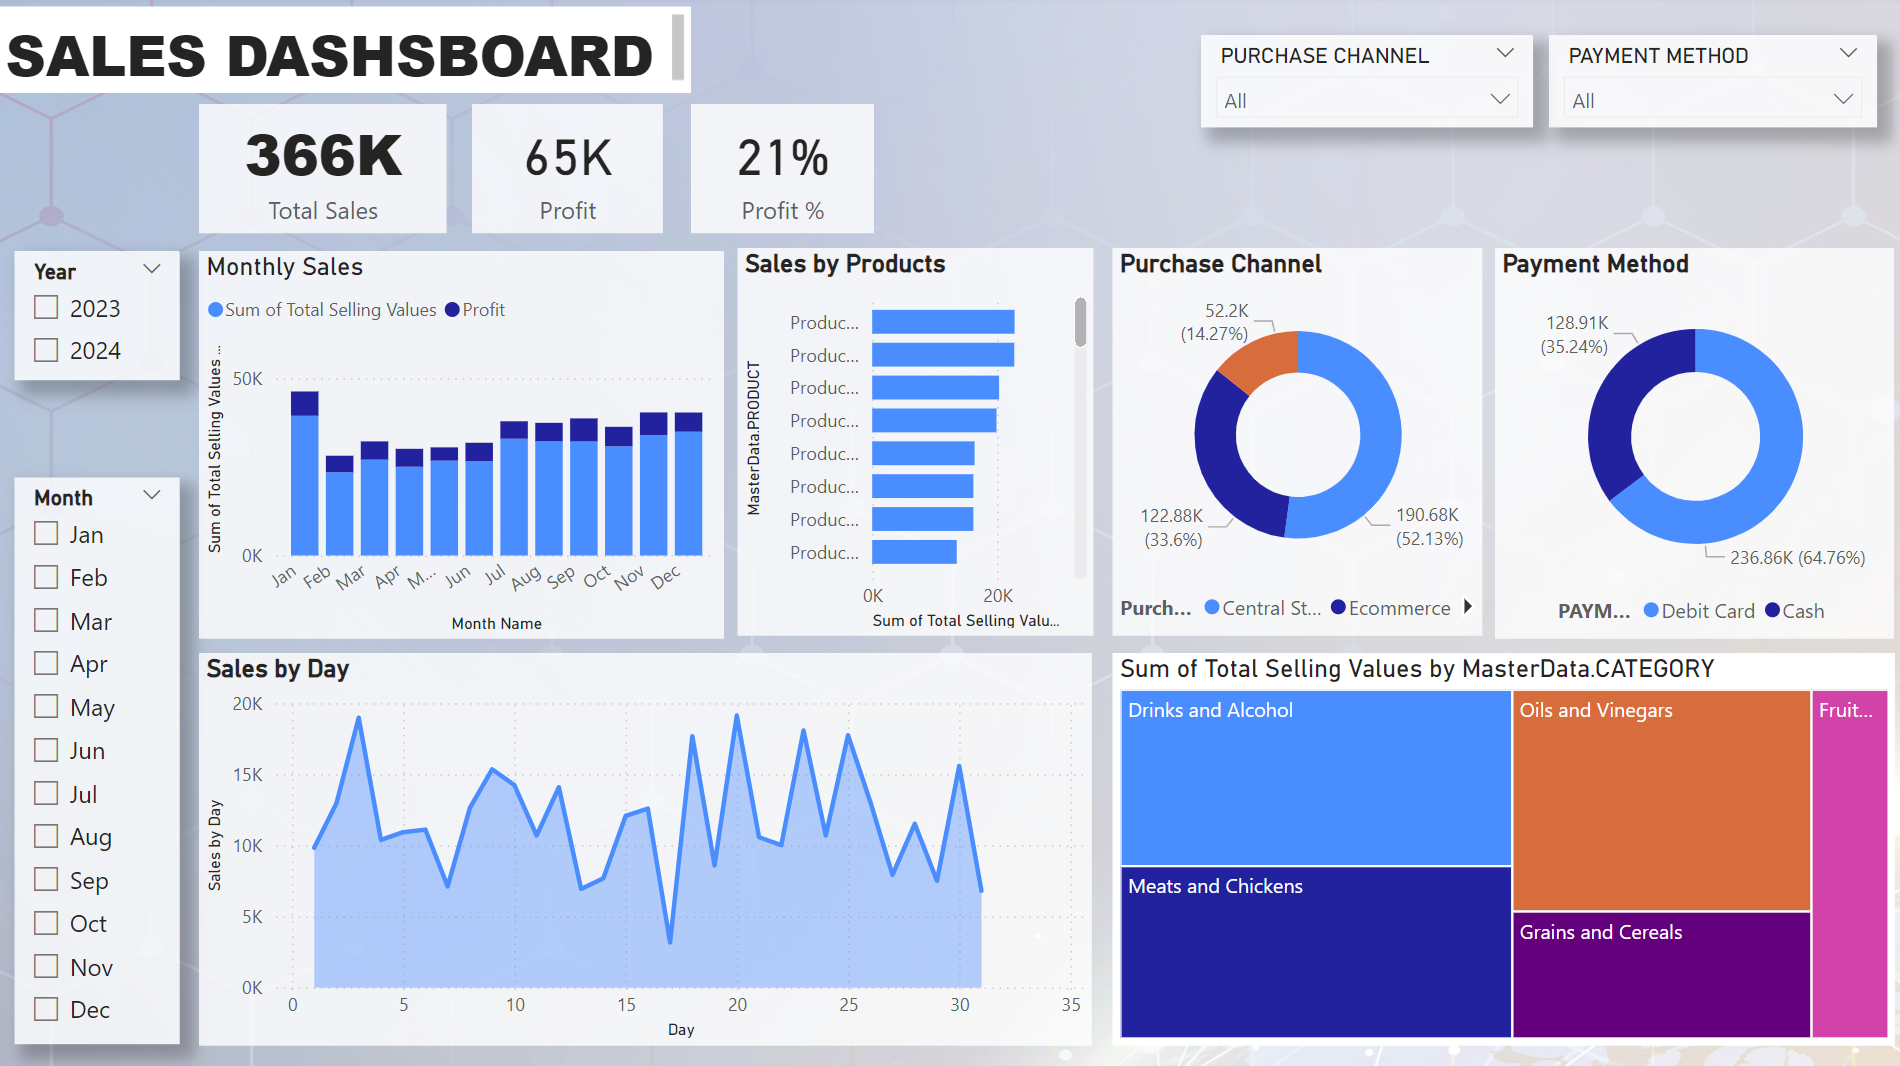

What the dashboard file says about the page in this screenshot:
{"tool":"powerbi","page":{"name":"Sales Dashboard","canvas":[1280,720],"ordinal":0},"visuals":[{"type":"slicer","fields":{"Values":["InputData.Year"]},"box":[10.6,171.1,110.9,86.6],"z":0},{"type":"slicer","fields":{"Values":["InputData.PURCHASE CHANNEL"]},"box":[807.1,26.4,222.9,62.3],"z":1000},{"type":"slicer","fields":{"Values":["InputData.PAYMENT METHOD"]},"box":[1039.5,26.4,219.7,62.3],"z":2000},{"type":"slicer","title":"Month","fields":{"Values":["InputData.Month Name"]},"box":[10.6,323.3,110.9,380.3],"z":3000},{"type":"card","fields":{"Values":["Sum(InputData.Total Selling Values)"]},"box":[135.2,72.9,165.9,86.6],"z":4000},{"type":"card","fields":{"Values":["InputData.Profit"]},"box":[318,72.9,127.8,86.6],"z":5000},{"type":"card","fields":{"Values":["InputData.Profit %"]},"box":[464.8,72.9,122.5,86.6],"z":6000},{"type":"columnChart","title":"Monthly Sales","fields":{"Category":["InputData.Month Name"],"Y":["Sum(InputData.Total Selling Values)","InputData.Profit"]},"box":[135.2,171.1,351.8,259.9],"z":11000},{"type":"clusteredBarChart","title":"Sales by Products","fields":{"Y":["Sum(InputData.Total Selling Values)"],"Category":["InputData.MasterData.PRODUCT"]},"box":[495.5,169,238.7,259.9],"z":12000},{"type":"areaChart","title":"Sales by Day","fields":{"Y":["Sum(InputData.Total Selling Values)"],"Category":["InputData.Day"]},"box":[135.2,440.5,599,263],"z":13000},{"type":"donutChart","title":"Purchase Channel","fields":{"Y":["Sum(InputData.Total Selling Values)"],"Category":["InputData.PURCHASE CHANNEL"]},"box":[746.9,169,248.3,259.9],"z":14000},{"type":"donutChart","title":"Payment Method","fields":{"Y":["Sum(InputData.Total Selling Values)"],"Category":["InputData.PAYMENT METHOD"]},"box":[1003.6,169,268.3,262],"z":15000},{"type":"treemap","fields":{"Group":["InputData.MasterData.CATEGORY"],"Values":["Sum(InputData.Total Selling Values)"]},"box":[746.9,440.5,525,263],"z":16000},{"type":"textbox","box":[0,7.4,464.8,58.1],"z":17000}]}

Visuals, with their boxes in screenshot pixels (x1, y1, x2, y2), scaled from the page's 1280x720 canvas onto the 1900x1066 screenshot:
slicer - InputData.Year: left=16, top=253, right=180, bottom=382
slicer - InputData.PURCHASE CHANNEL: left=1198, top=39, right=1529, bottom=131
slicer - InputData.PAYMENT METHOD: left=1543, top=39, right=1869, bottom=131
"Month" slicer: left=16, top=479, right=180, bottom=1042
card - Sum(InputData.Total Selling Values): left=201, top=108, right=447, bottom=236
card - InputData.Profit: left=472, top=108, right=662, bottom=236
card - InputData.Profit %: left=690, top=108, right=872, bottom=236
"Monthly Sales" columnChart: left=201, top=253, right=723, bottom=638
"Sales by Products" clusteredBarChart: left=736, top=250, right=1090, bottom=635
"Sales by Day" areaChart: left=201, top=652, right=1090, bottom=1042
"Purchase Channel" donutChart: left=1109, top=250, right=1477, bottom=635
"Payment Method" donutChart: left=1490, top=250, right=1888, bottom=638
treemap - InputData.MasterData.CATEGORY x Sum(InputData.Total Selling Values): left=1109, top=652, right=1888, bottom=1042
textbox: left=0, top=11, right=690, bottom=97
